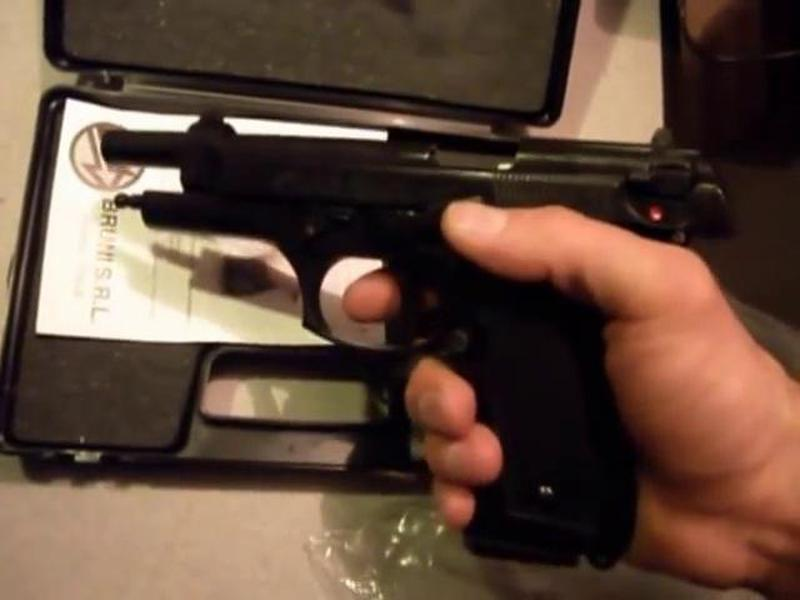Pistola: (98, 95, 726, 564)
